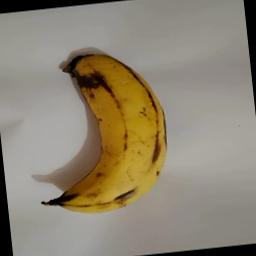Banana Unripe: (26, 44, 174, 221)
